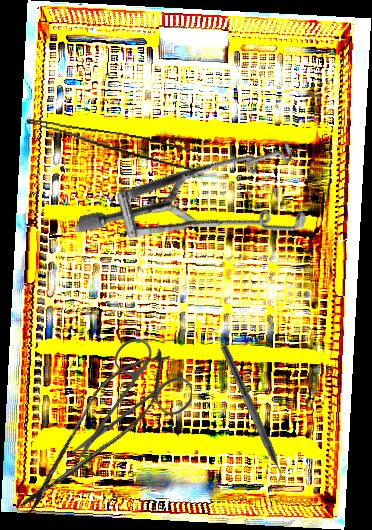Chopper: (210, 344, 292, 490)
Iris Scissors: (72, 339, 192, 460)
Micro Scissor: (6, 334, 185, 529)
Speculum: (74, 79, 331, 313)
Tissue Forceps: (22, 118, 203, 171)
